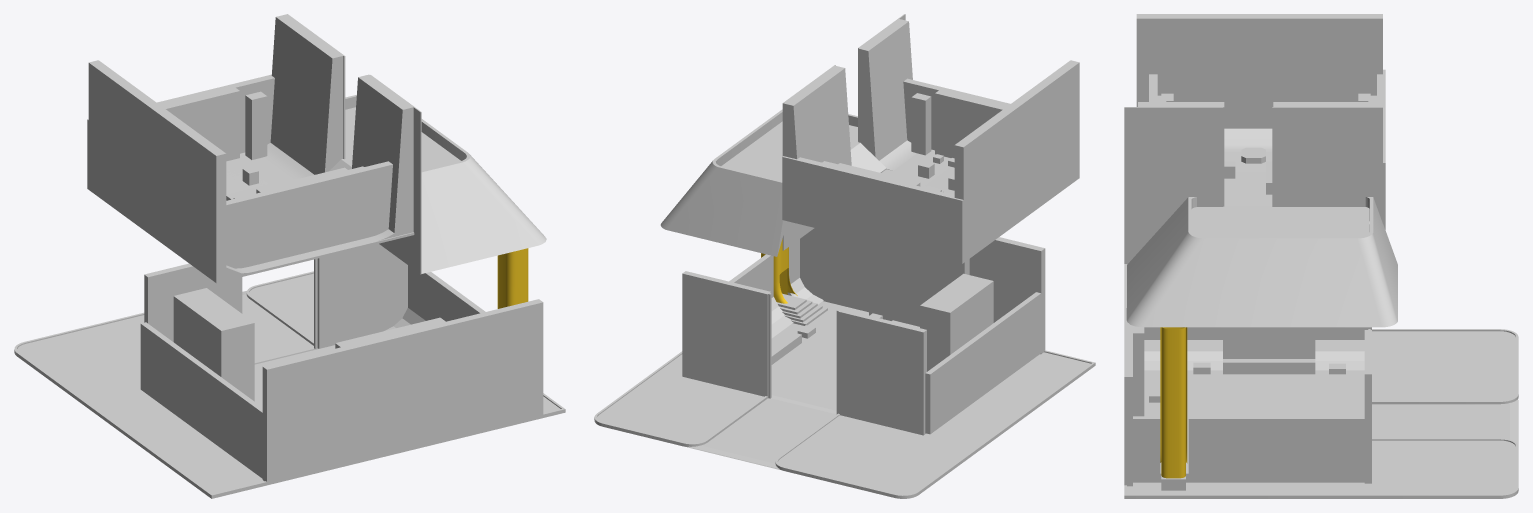
File: UPS_Colliders.glb
3 renders of one model, left to right at view 1: azimuth 30°, elevation 25°; view 2: azimuth 150°, elevation 25°; view 3: azimuth 270°, elevation 25°, orthographic. The views are drawn at different scales.
Visible parts, largest first — view 1: Main_collider_, MidPod_collider_, Line2391_collider_, Box1123_collider_; view 2: Main_collider_, MidPod_collider_, Line2391_collider_, Box1123_collider_; view 3: MidPod_collider_, Main_collider_, Line2391_collider_, Elevator_collider_002, Box861_collider_, Box860_collider_, Box1123_collider_.
Part boxes in pixels (x1=…): Main_collider_: x1=14, y1=243, x2=565, y2=498; MidPod_collider_: x1=87, y1=14, x2=546, y2=283; Line2391_collider_: x1=385, y1=265, x2=485, y2=330; Box1123_collider_: x1=497, y1=250, x2=524, y2=308; Main_collider_: x1=594, y1=228, x2=1095, y2=498; MidPod_collider_: x1=660, y1=14, x2=1079, y2=263; Line2391_collider_: x1=729, y1=239, x2=823, y2=338; Box1123_collider_: x1=764, y1=239, x2=797, y2=303; MidPod_collider_: x1=1124, y1=14, x2=1397, y2=327; Main_collider_: x1=1124, y1=264, x2=1518, y2=498; Line2391_collider_: x1=1133, y1=416, x2=1368, y2=482; Elevator_collider_002: x1=1161, y1=327, x2=1185, y2=478; Box861_collider_: x1=1223, y1=327, x2=1315, y2=358; Box860_collider_: x1=1223, y1=359, x2=1315, y2=374; Box1123_collider_: x1=1160, y1=327, x2=1187, y2=463.
Size of the model in its own units: 32 by 29 by 32.
Materials: 1 (1 with a texture image).
